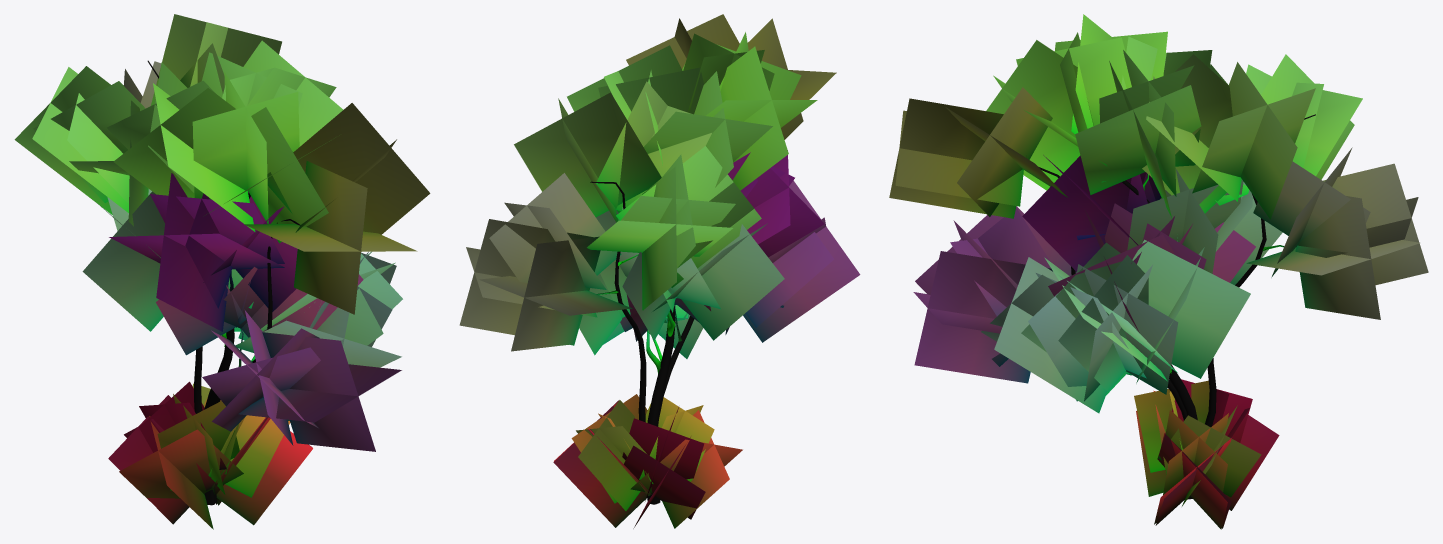
Rendered from URP_P12_Tree_11_LOD_1.fbx.
3 views of the same model, side by side, from view 1: azimuth 30°, elevation 25°; view 2: azimuth 150°, elevation 25°; view 3: azimuth 270°, elevation 25° (orthographic). The views are drawn at different scales.
Visible parts, largest first — view 1: Tree_11_LOD_1; view 2: Tree_11_LOD_1; view 3: Tree_11_LOD_1.
Part boxes in pixels (bbox=[...]): Tree_11_LOD_1: bbox=[14, 14, 430, 529]; Tree_11_LOD_1: bbox=[459, 14, 860, 528]; Tree_11_LOD_1: bbox=[889, 14, 1428, 529].
Size of the model in its own units: 167 by 281 by 288.
